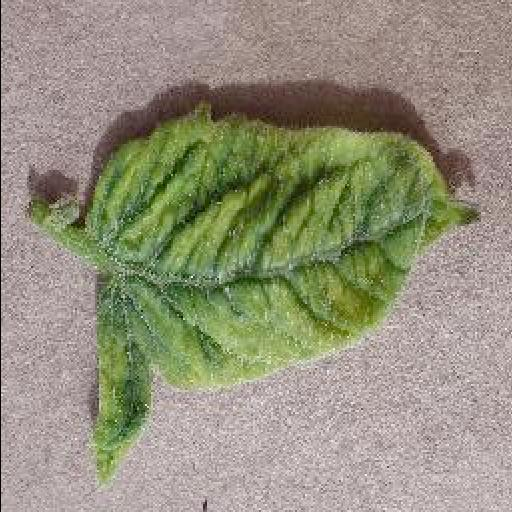disease_tomato: (78, 104, 484, 490)
